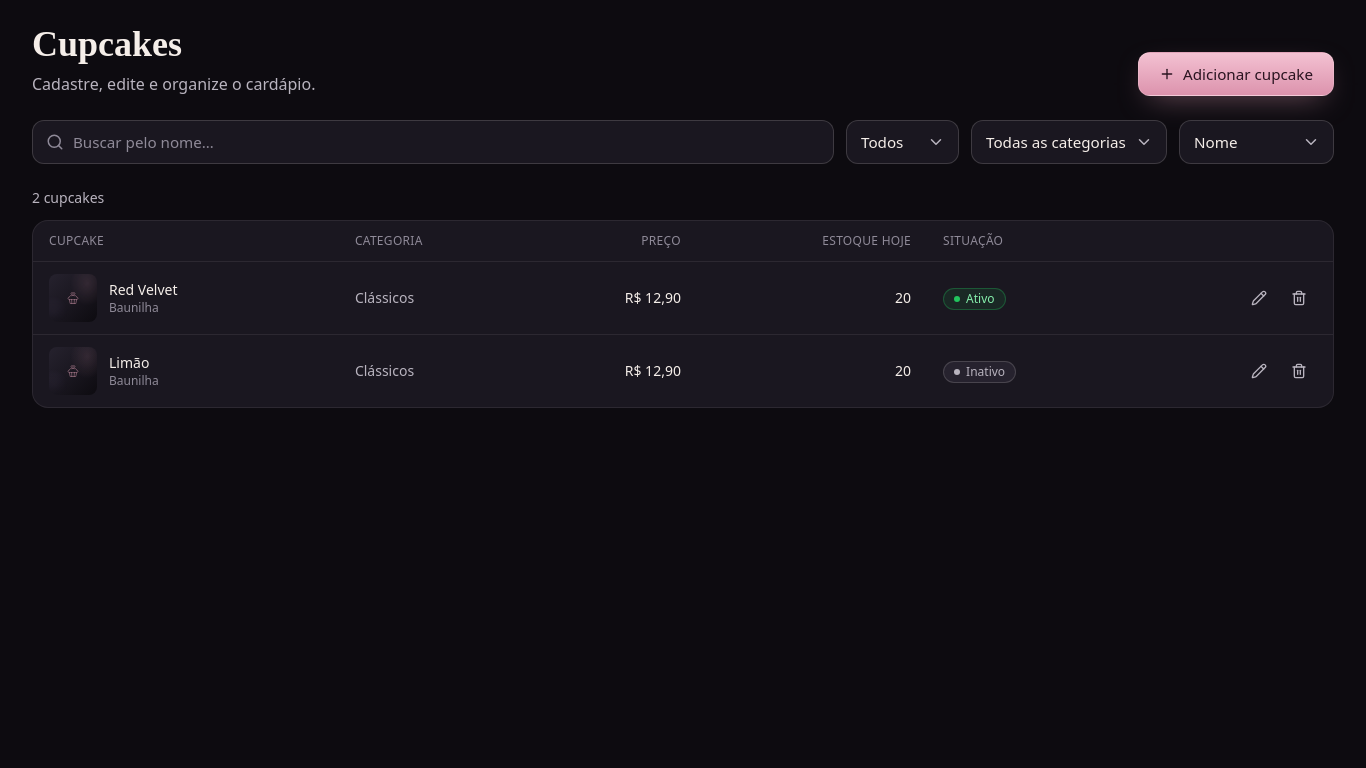
Test: AdminCupcakesPage › lista ativos e inativos e explica a exclusão lógica (US15 RN#01)
Expected: the text "Inativo" is shown, [943, 360, 1016, 382]
Click the button named "Excluir Red Velvet" at {"x": 1299, "y": 298}, box [1281, 280, 1317, 316]
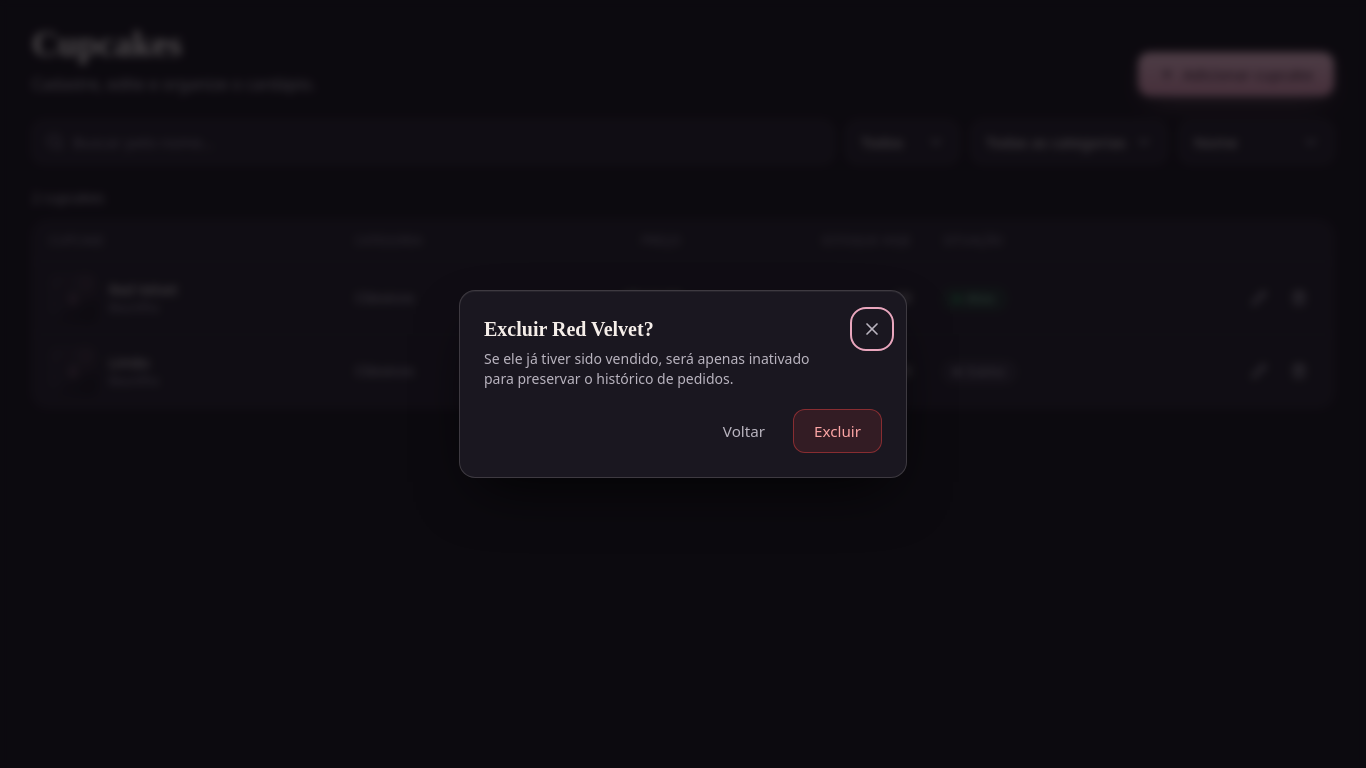
Click the button "Excluir" at {"x": 838, "y": 431}, box [793, 409, 882, 453]
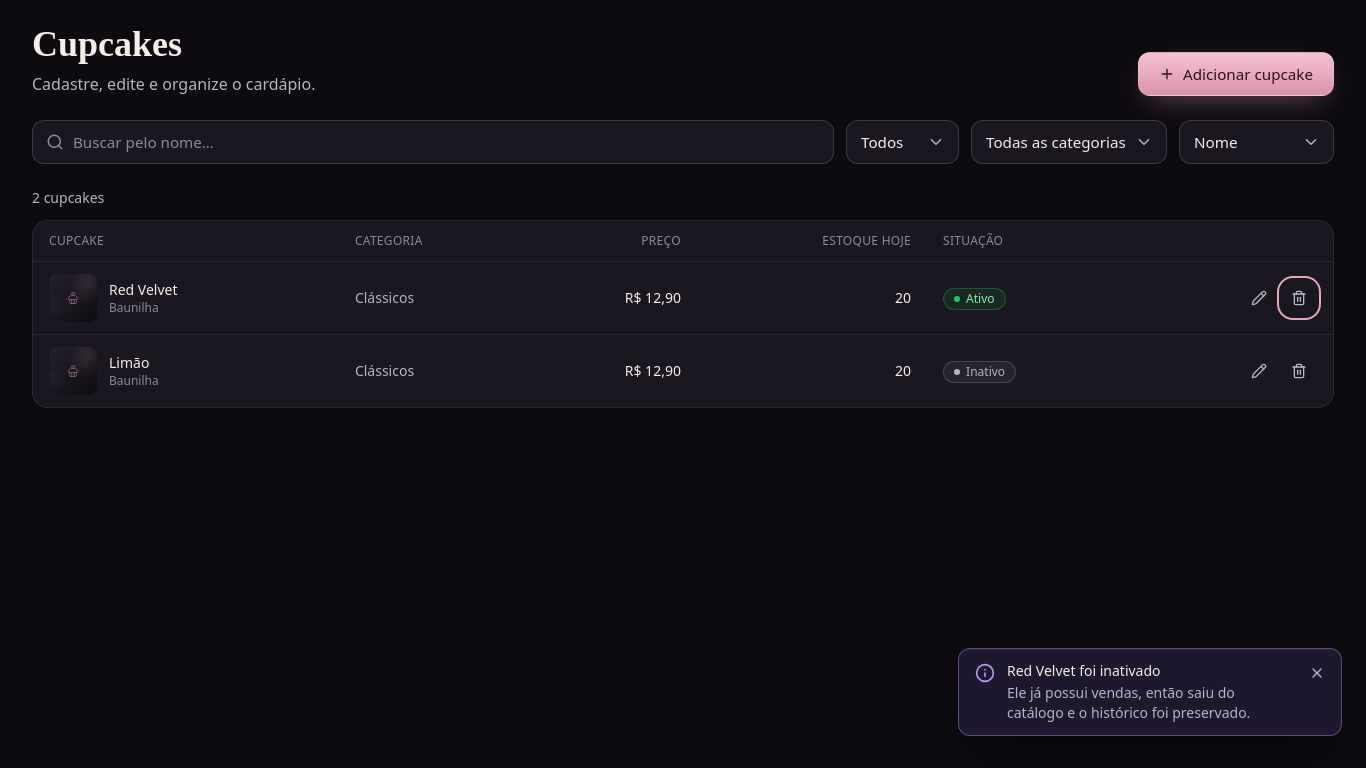
Expected: the text "Red Velvet foi inativado" is shown, [1007, 661, 1161, 680]
